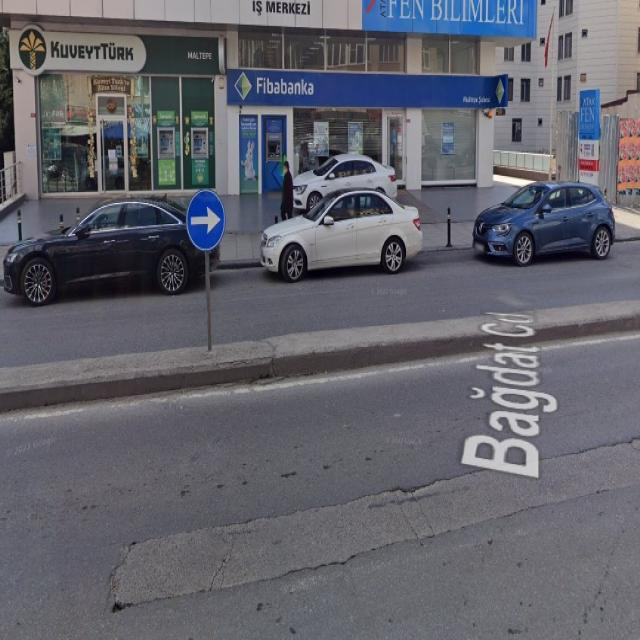Turn Right: (183, 191, 227, 250)
